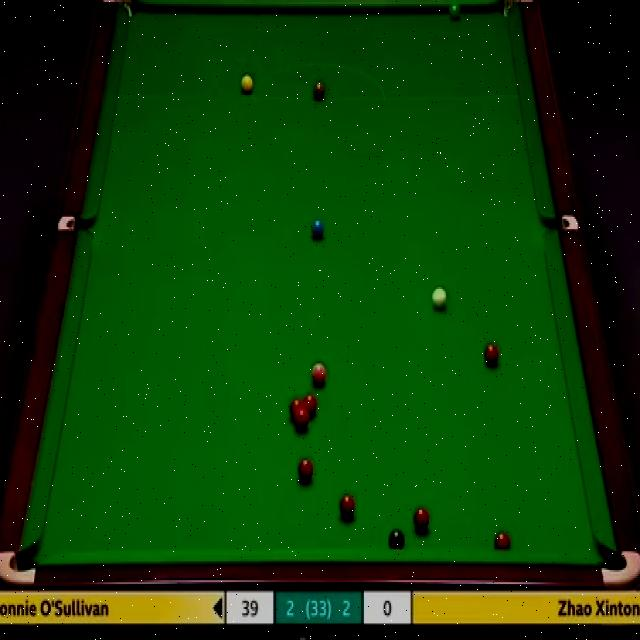black-ball: (388, 528, 404, 548)
blue-ball: (310, 217, 326, 240)
brown-ball: (312, 79, 326, 102)
green-ball: (448, 3, 462, 19)
pink-ball: (310, 361, 327, 385)
red-ball: (338, 492, 356, 521), (413, 505, 430, 533), (298, 457, 314, 483), (484, 342, 499, 366), (496, 531, 512, 551), (295, 409, 309, 431), (304, 393, 317, 416), (290, 400, 303, 413)
white-ball: (431, 286, 448, 311)
yellow-ball: (240, 74, 253, 94)
